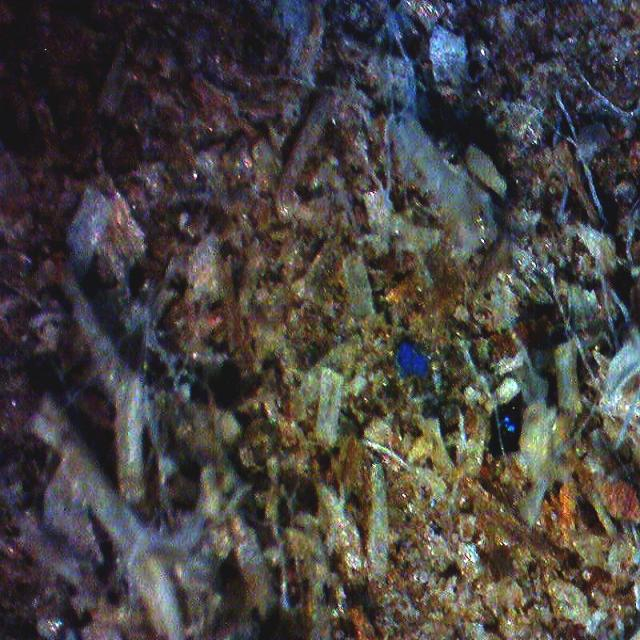microplastic: (396, 338, 428, 376)
